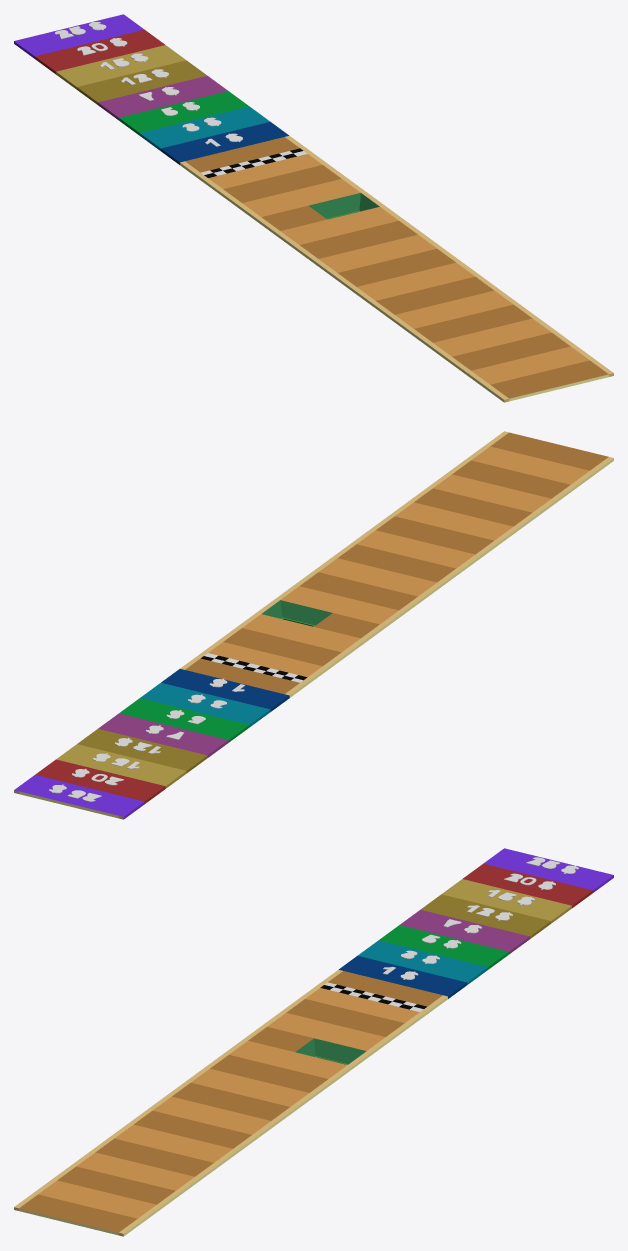
The model's file is Platform.fbx.
3 views of the same model, one above another, from view 1: azimuth 30°, elevation 25°; view 2: azimuth 150°, elevation 25°; view 3: azimuth 330°, elevation 25° (orthographic).
Parts seen in each view (by area): view 1: Plane; view 2: Plane; view 3: Plane.
Boxes of the visible parts, bbox=[...] form: Plane: bbox=[14, 14, 613, 402]; Plane: bbox=[14, 431, 613, 819]; Plane: bbox=[14, 848, 613, 1236].
Size of the model in its own units: 116 by 15.12 by 901.
